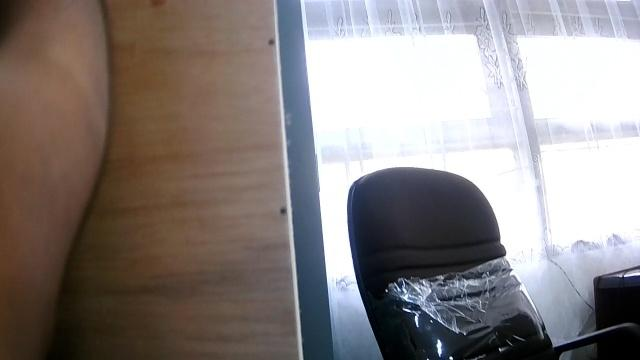Kursi: (346, 166, 638, 359)
